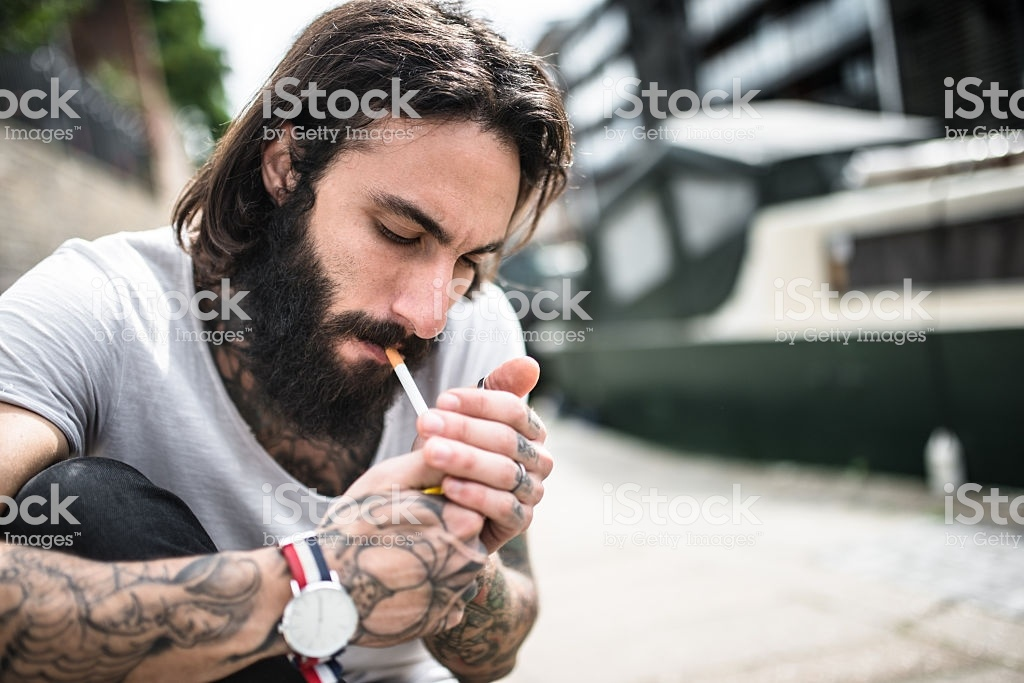sigaretta: (386, 334, 437, 418)
